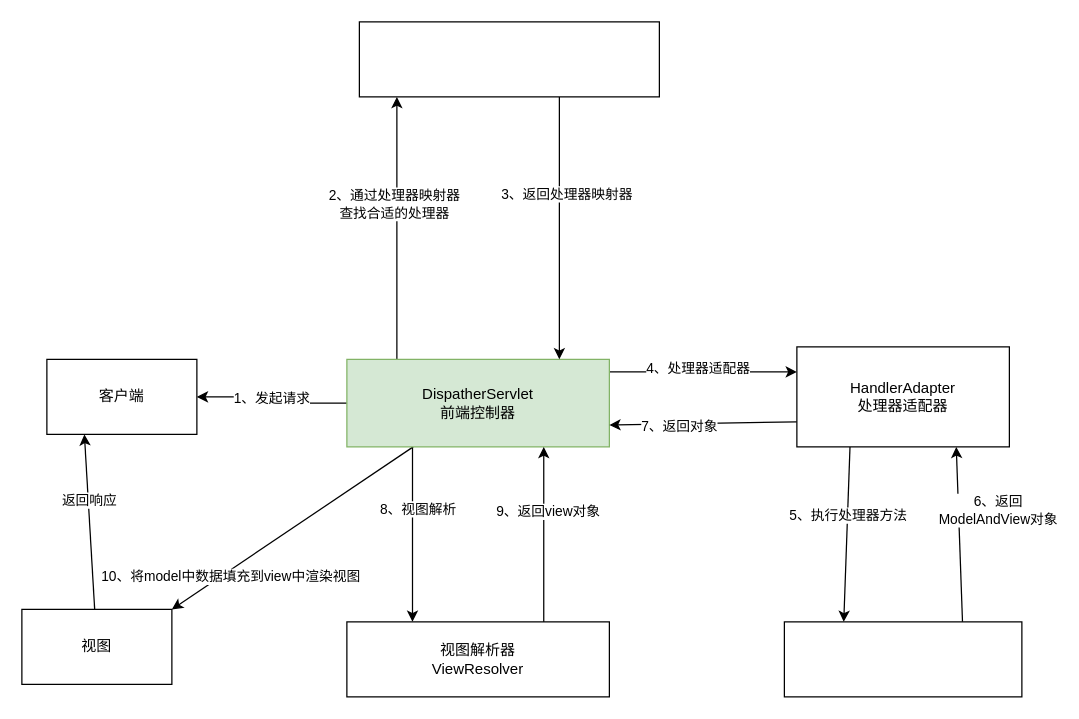
This 1079x719 diagram has some shape labels left out. The centre of each missing label's shape, as x and y in pixels:
"Handler 处理器" belongs at [902,659].
"HandlerMapping 处理器映射" belongs at [508,59].
